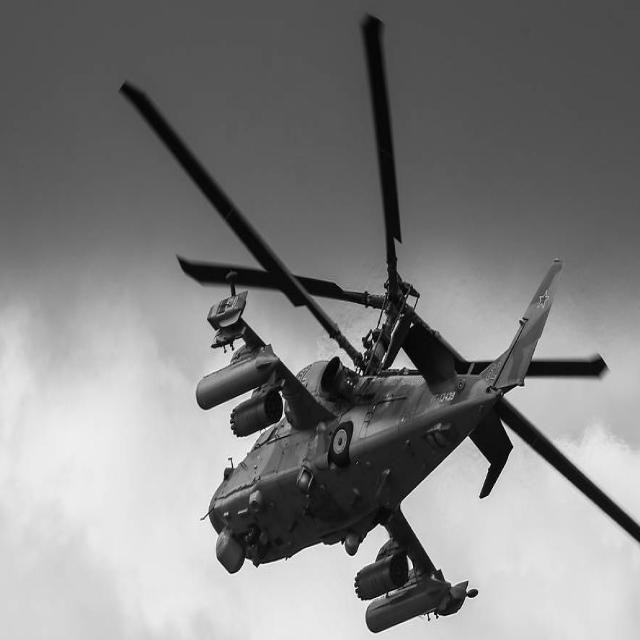helicopter: (89, 3, 640, 640)
